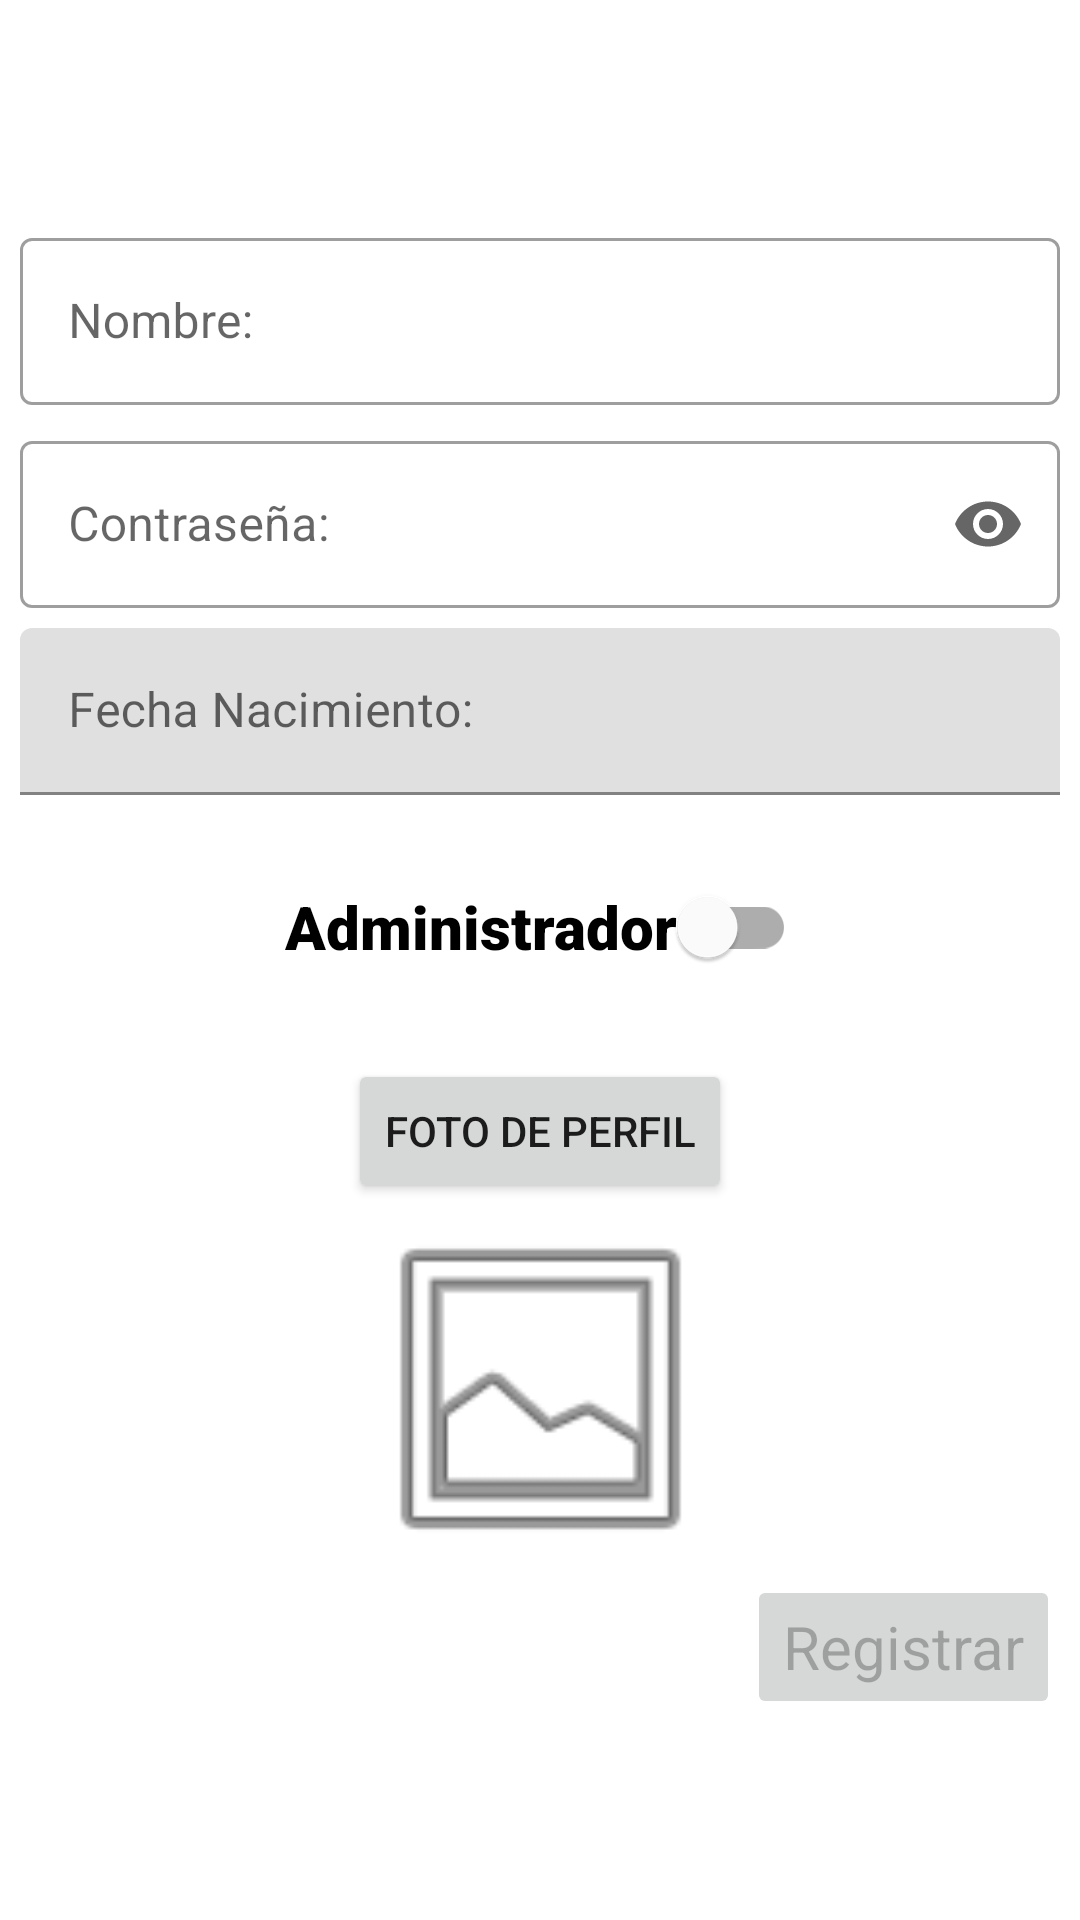

Icon click points for this 1080w x 1920h phone screenshot, format (x=x, y=y):
gallery: (x=540, y=1389)
